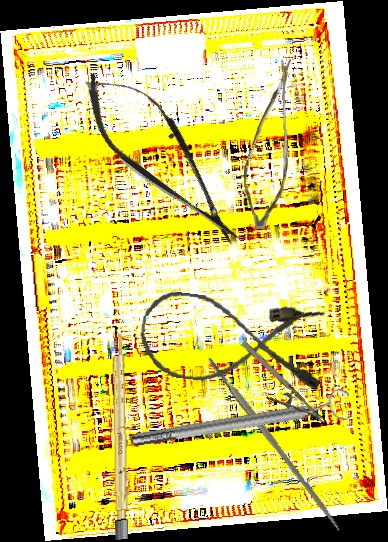Cannula: (135, 288, 329, 395)
Fixation Ring: (129, 386, 354, 457)
Micro Scissor: (65, 53, 261, 263), (240, 57, 297, 230)
Needle Holder: (227, 338, 328, 441)
Scalpel Handle: (205, 354, 344, 533), (111, 329, 129, 540)
